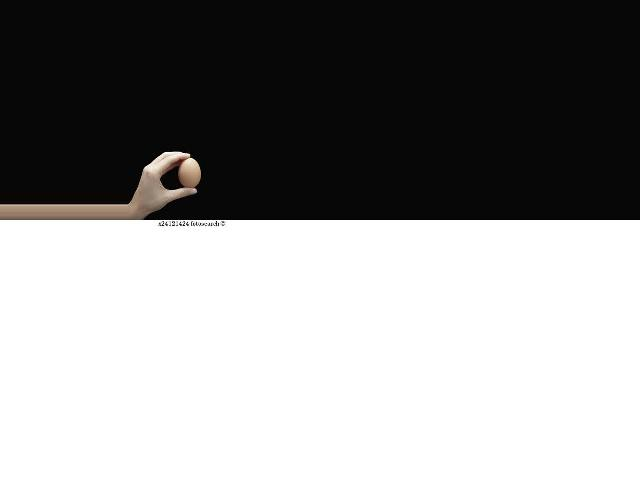egg: (178, 157, 201, 188)
